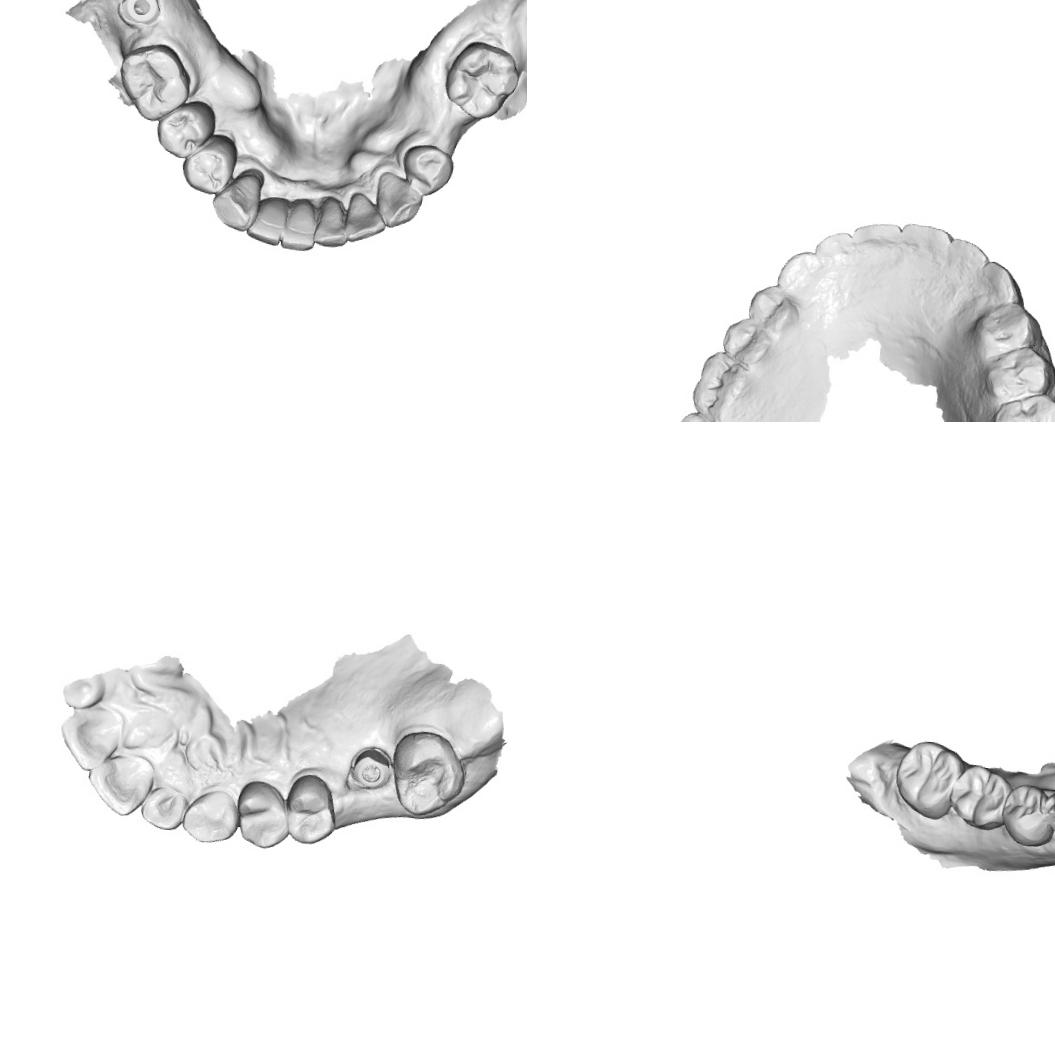canine: (180, 787, 240, 846), (208, 171, 262, 234), (373, 169, 424, 231), (774, 247, 828, 302), (977, 258, 1028, 306)
implant: (350, 748, 392, 787), (116, 0, 164, 27)
incisor: (58, 701, 122, 776), (82, 755, 152, 819), (136, 780, 186, 832), (343, 190, 388, 244), (244, 194, 287, 246), (848, 217, 902, 258), (278, 198, 318, 252), (898, 218, 954, 256), (312, 196, 350, 249), (944, 234, 990, 276), (812, 228, 853, 272)
molar: (438, 36, 522, 122), (387, 728, 465, 820), (114, 38, 193, 124), (892, 735, 966, 822), (945, 761, 1013, 834), (686, 346, 754, 416), (986, 388, 1055, 422), (666, 407, 734, 422)
premolar: (967, 295, 1047, 362), (980, 340, 1055, 407), (232, 777, 292, 851), (282, 770, 338, 848), (152, 96, 218, 161), (997, 781, 1055, 849), (178, 132, 238, 196), (398, 141, 456, 198), (744, 282, 803, 337), (718, 314, 775, 366)
